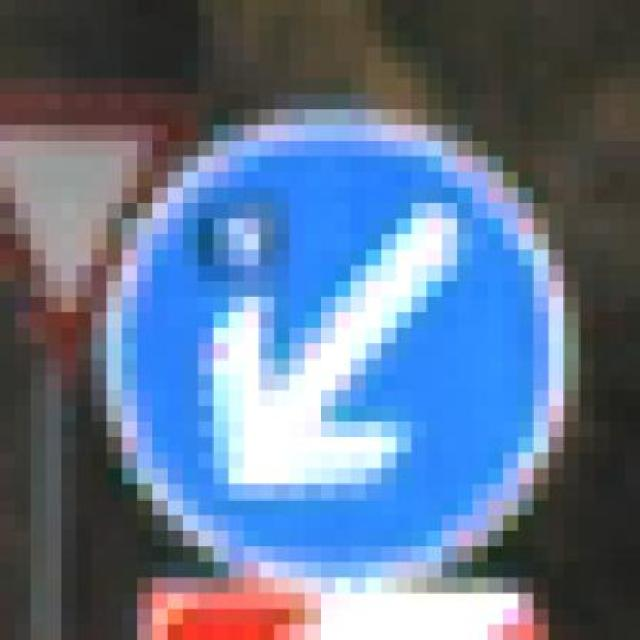Keep-Left: (76, 62, 595, 593)
